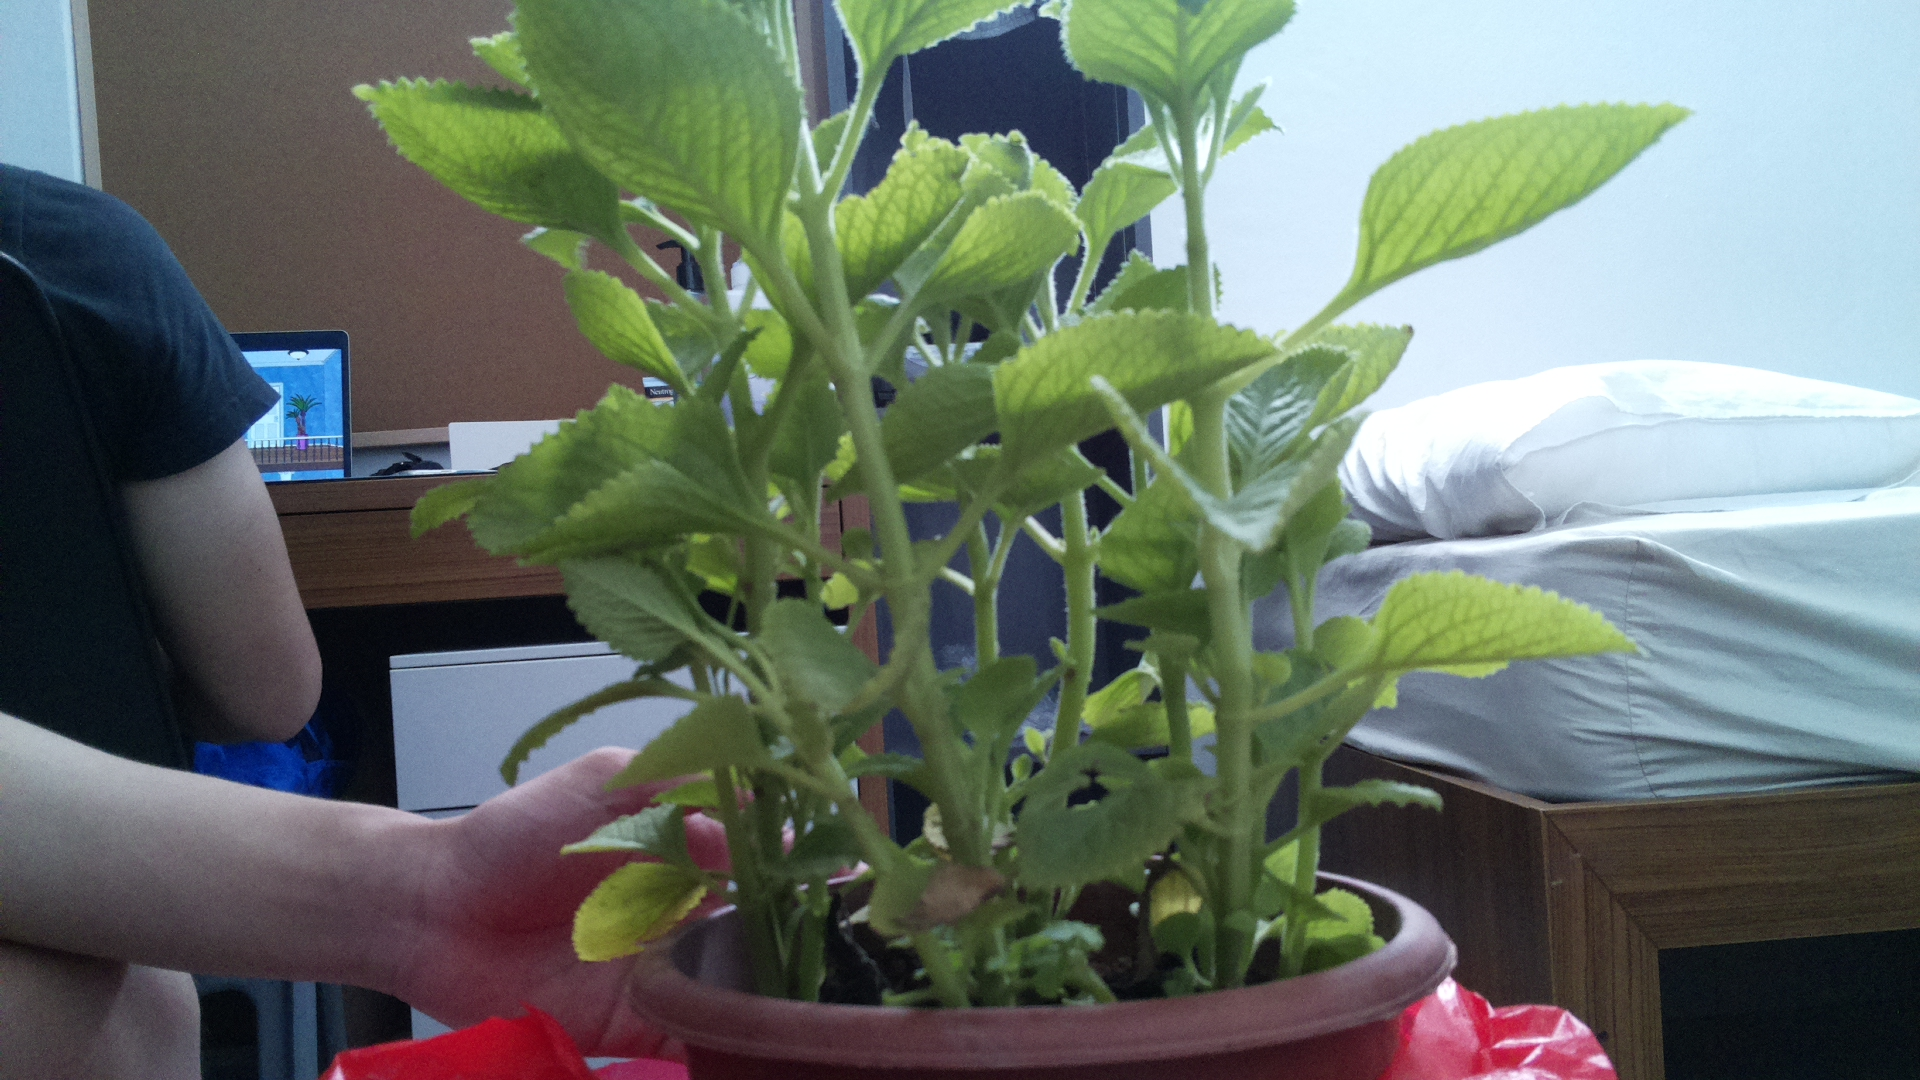leaf: (1357, 90, 1704, 301), (512, 1, 793, 247), (972, 309, 1288, 485), (347, 80, 636, 243), (469, 402, 756, 562), (1364, 564, 1662, 673), (824, 357, 1001, 505), (887, 191, 1080, 315), (567, 857, 719, 975), (756, 591, 889, 713), (551, 560, 696, 662), (563, 799, 698, 866), (949, 646, 1039, 741), (1300, 771, 1452, 819)
